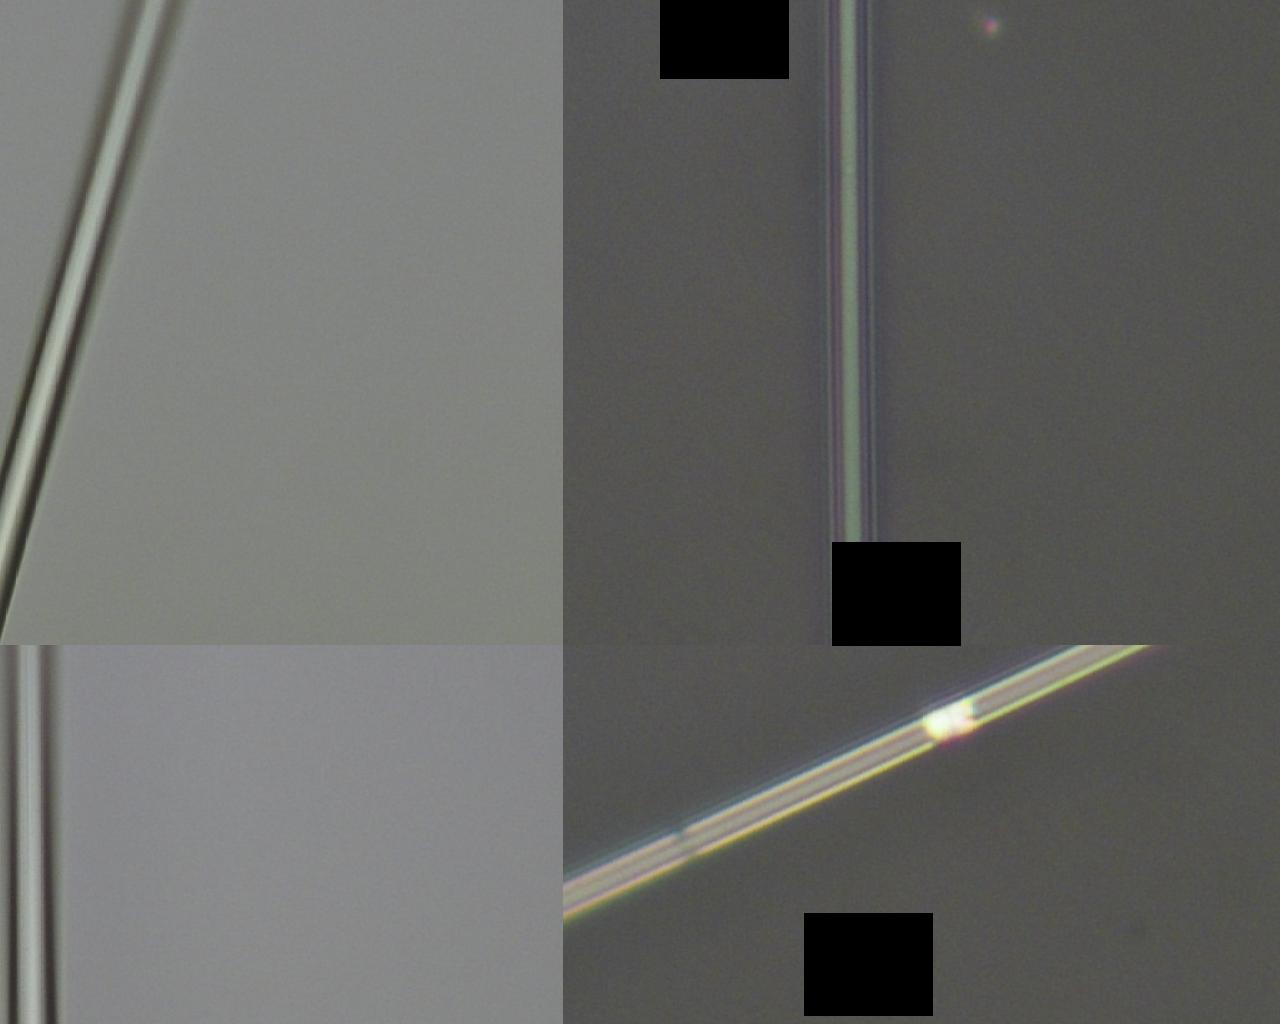fiber: (127, 508, 1151, 597)
